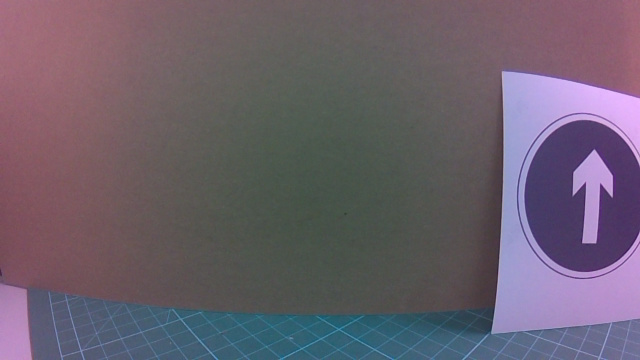forward: (498, 107, 640, 313)
